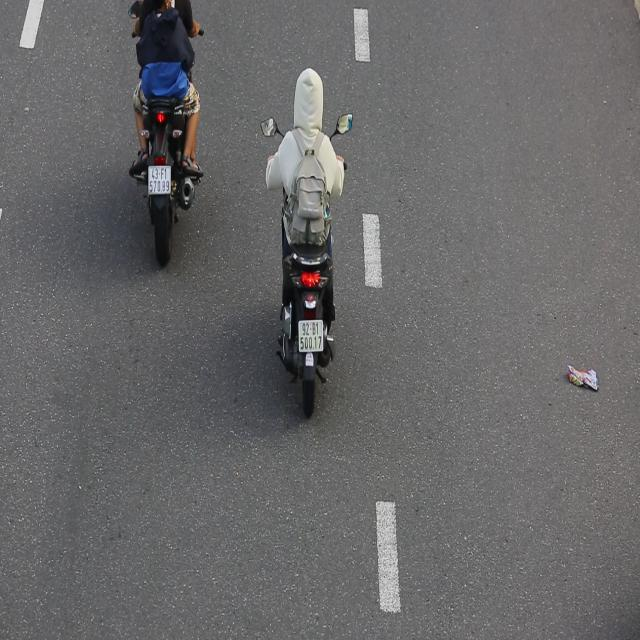motorbike: (252, 49, 360, 430)
